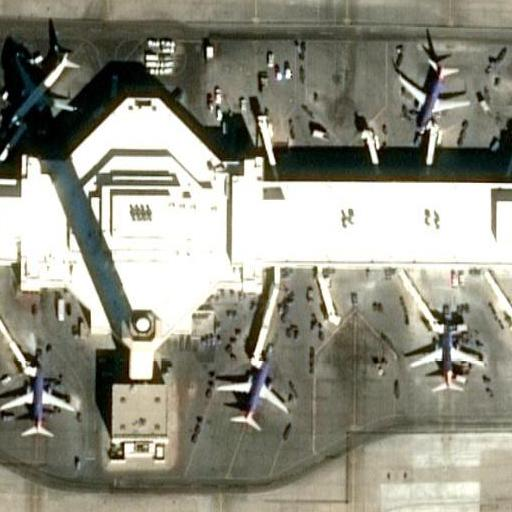Aircraft: (0, 32, 80, 135), (401, 302, 485, 399), (388, 45, 475, 136), (0, 345, 72, 438), (210, 351, 289, 429)
